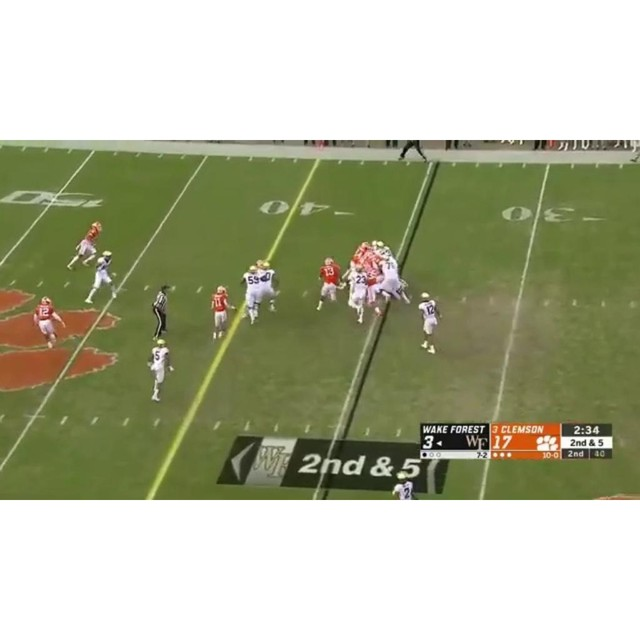american-football-player: (66, 221, 103, 270), (33, 296, 65, 350), (85, 250, 118, 302), (147, 339, 173, 403), (379, 253, 409, 306), (417, 291, 441, 354), (241, 264, 264, 326), (316, 256, 341, 312), (256, 261, 280, 316), (341, 242, 368, 287), (348, 266, 368, 324), (211, 285, 230, 342)
referee: (151, 283, 172, 341)
